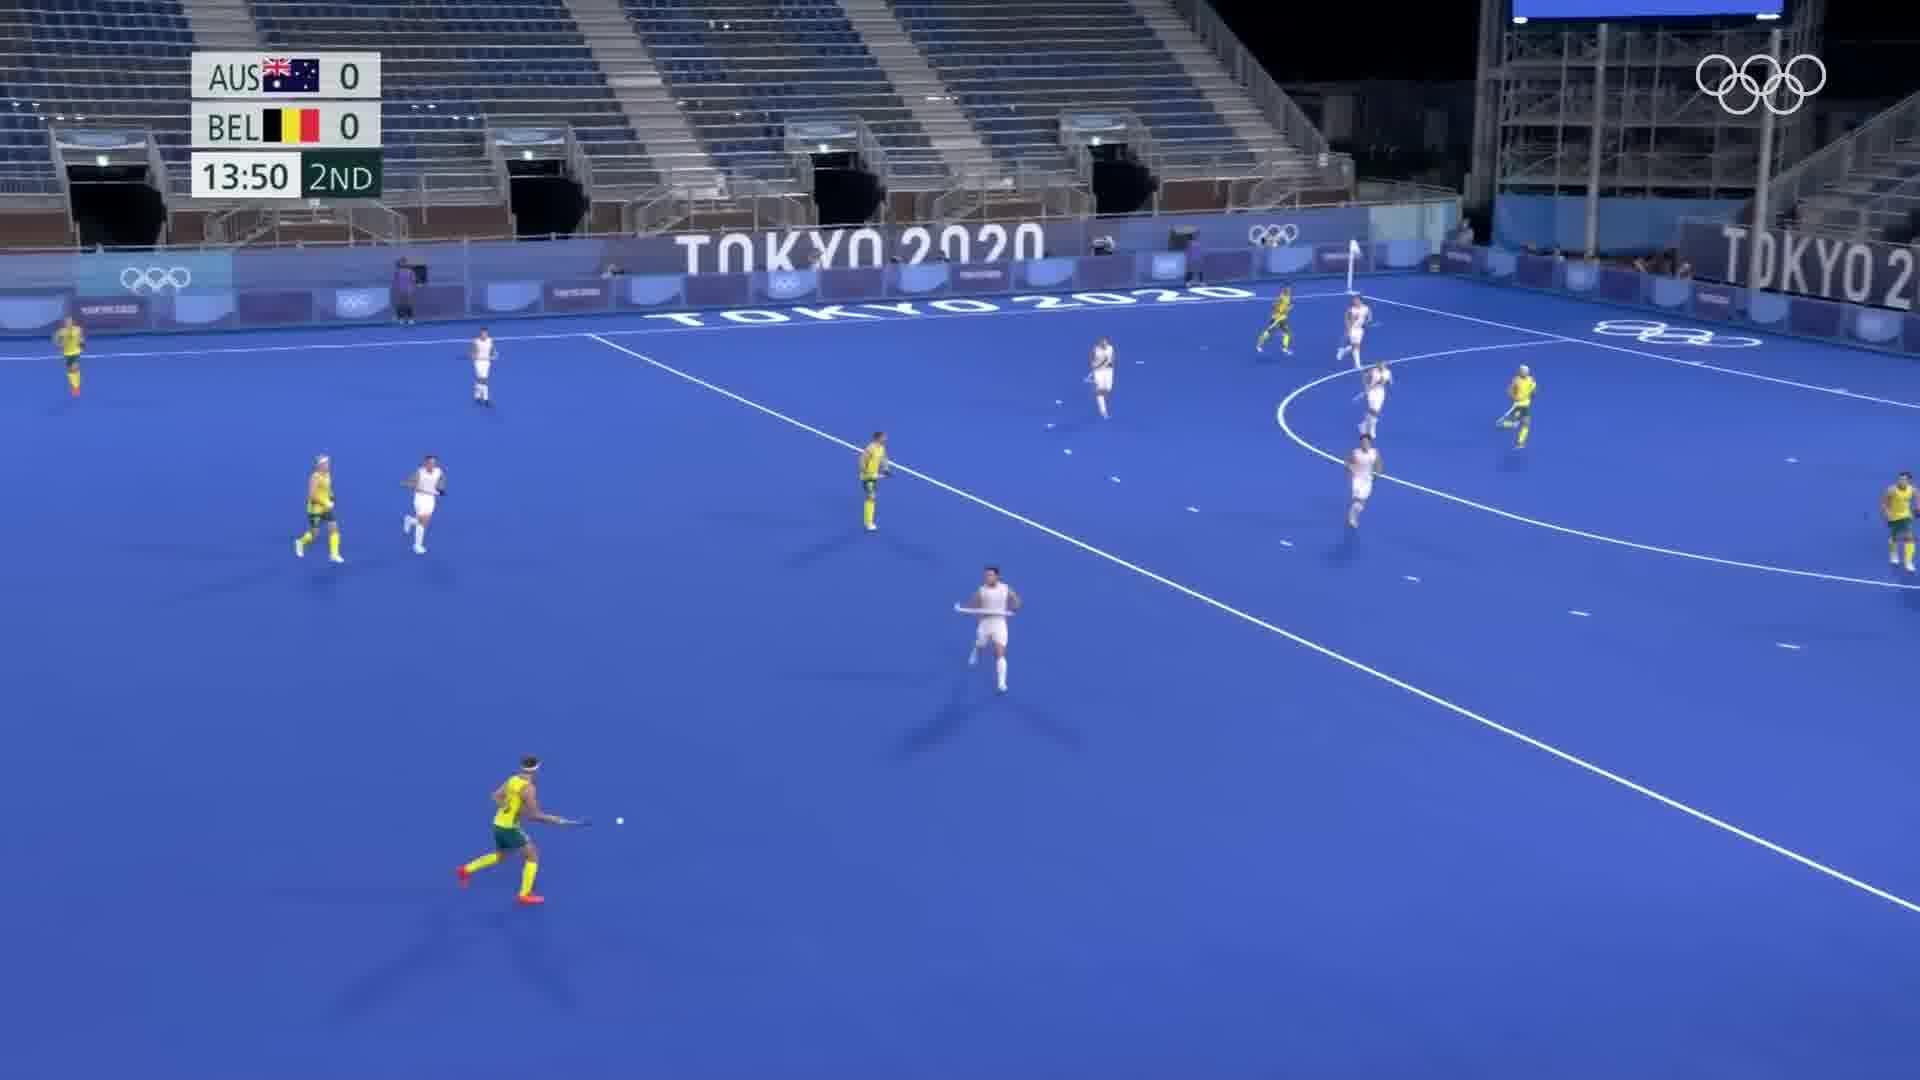ball: (607, 812, 641, 828)
